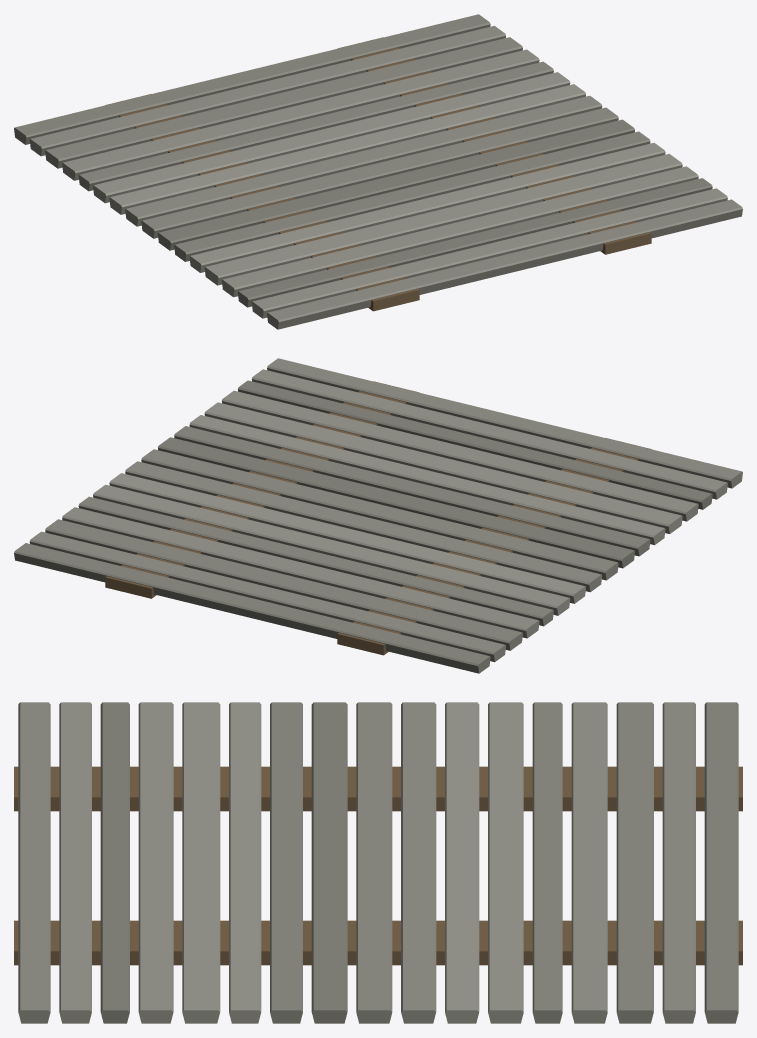
File: boardwalk-street-tile-6782fd.glb
3 views of the same model, one above another, from view 1: azimuth 30°, elevation 25°; view 2: azimuth 150°, elevation 25°; view 3: azimuth 270°, elevation 25° (orthographic). The views are drawn at different scales.
Visible parts, largest first — view 1: boardwalk-slab; view 2: boardwalk-slab; view 3: boardwalk-slab.
Part boxes in pixels (<box>): boardwalk-slab: <box>14,14,742,329</box>; boardwalk-slab: <box>14,358,742,673</box>; boardwalk-slab: <box>14,702,742,1023</box>.
Bounding box in the file's own units: 2 × 0.05 × 2.
